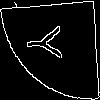Y: (25, 24, 71, 61)
